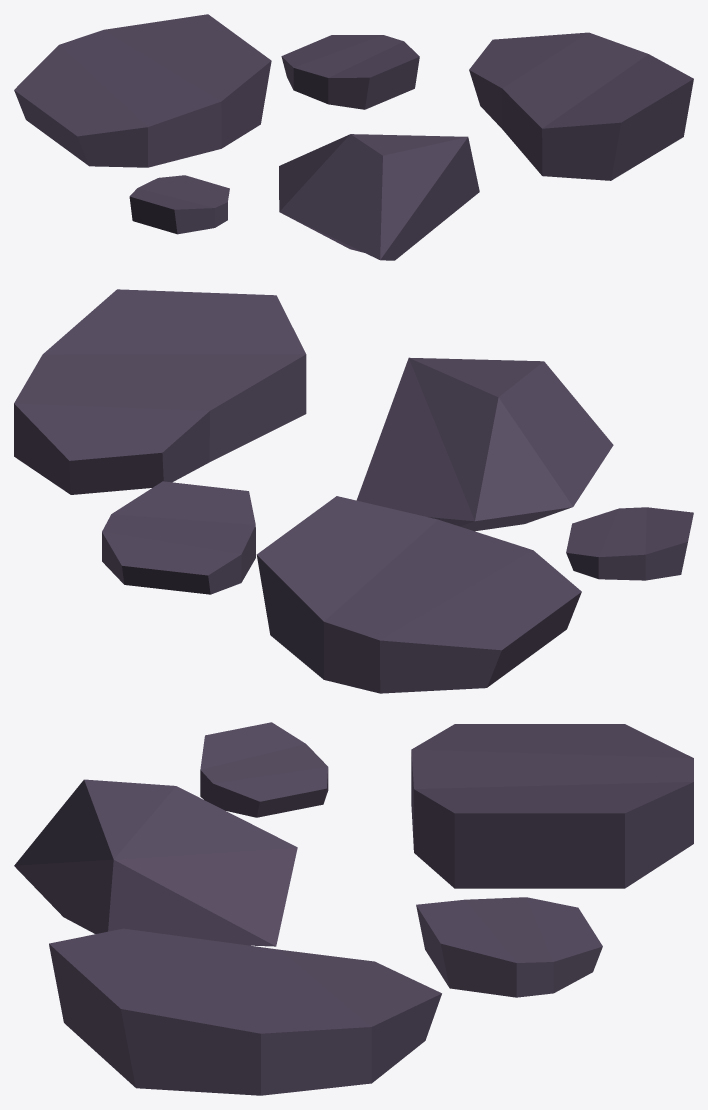
The model's file is SM_rock_cluster_03.fbx.
The picture shows the model from 3 angles, top to bottom: view 1: azimuth 30°, elevation 25°; view 2: azimuth 150°, elevation 25°; view 3: azimuth 270°, elevation 25°; orthographic projection. The views are drawn at different scales.
Parts seen in each view (by area): view 1: rock_cluster_03; view 2: rock_cluster_03; view 3: rock_cluster_03.
Part boxes in pixels (left/top/right/bottom): rock_cluster_03: left=14, top=14, right=693, bottom=260; rock_cluster_03: left=14, top=289, right=693, bottom=693; rock_cluster_03: left=14, top=722, right=693, bottom=1095.
Bounding box in the file's own units: 139 × 28.1 × 118.
